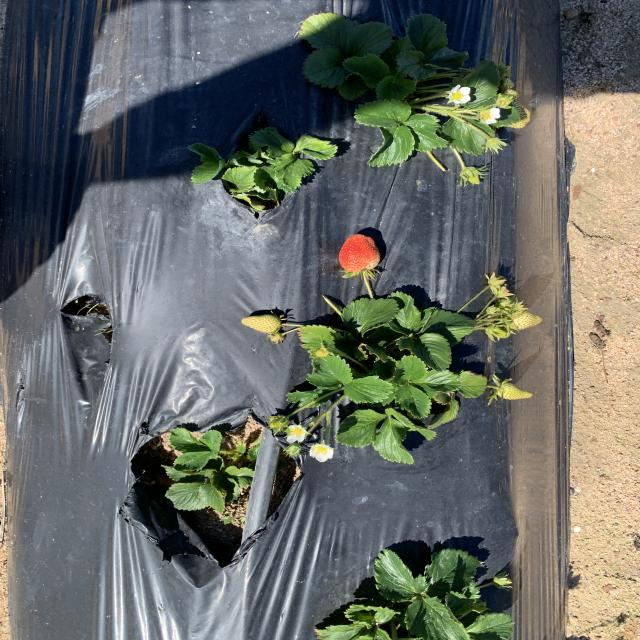unripe: (340, 232, 382, 279)
